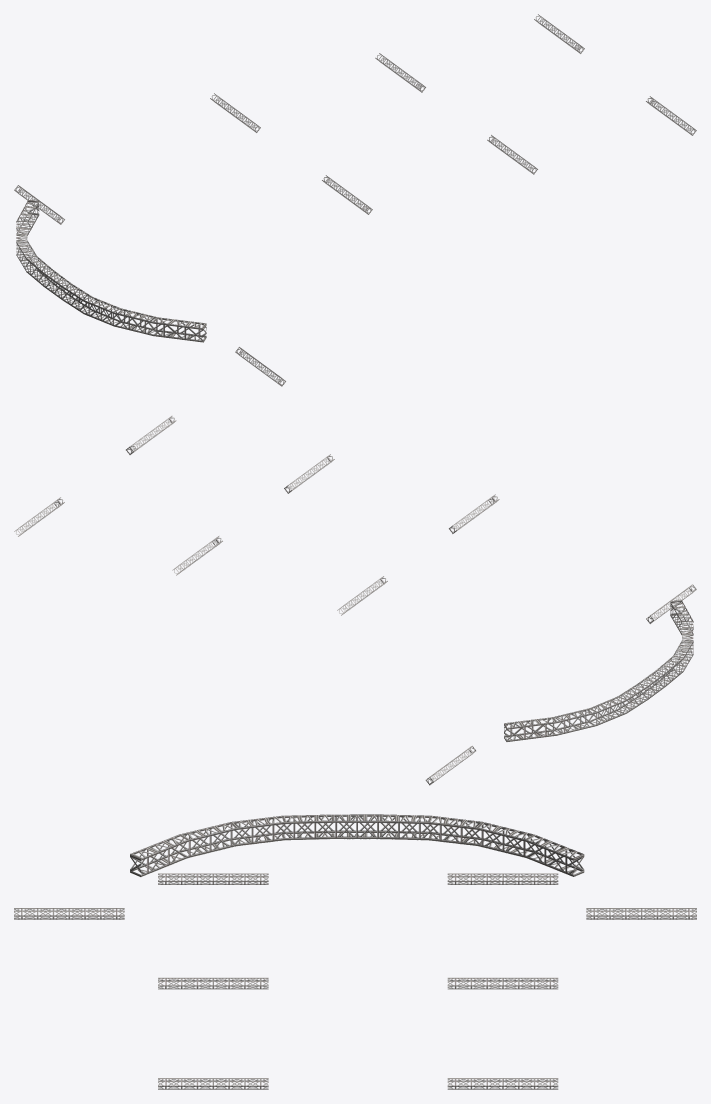
Rendered from Forum_BAKED_transparent.glb.
3 renders of one model, top to bottom at view 1: azimuth 30°, elevation 25°; view 2: azimuth 150°, elevation 25°; view 3: azimuth 270°, elevation 25°, orthographic. The views are drawn at different scales.
Parts seen in each view (by area): view 1: Forum_light_truss; view 2: Forum_light_truss; view 3: Forum_light_truss.
Part boxes in pixels (x1,y1,x2,y2): Forum_light_truss: (14, 14, 696, 386); Forum_light_truss: (14, 415, 696, 785); Forum_light_truss: (14, 814, 696, 1089).
Bounding box in the file's own units: 27.69 × 4.91 × 22.31.
Materials: 1 (1 with a texture image).
